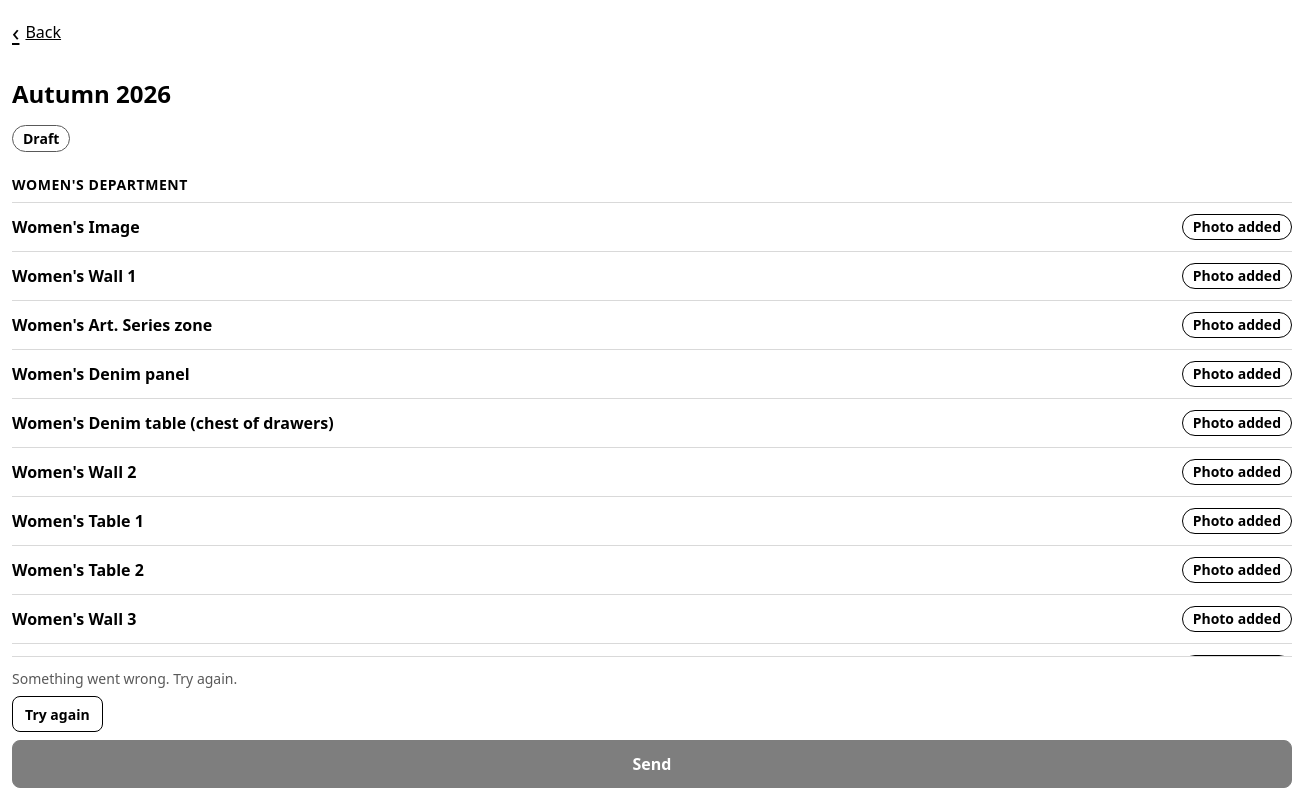
it: DraftReportPage: zone edits still being saved › a save that failed blocks Send, says so, and Try again saves it
Expected: the button "Send" is disabled, [12,740,1292,788]
Expected: the message shows "Something went wrong. Try again.", [12,668,237,687]
Click the button "Try again": (57, 714) [12,696,103,732]
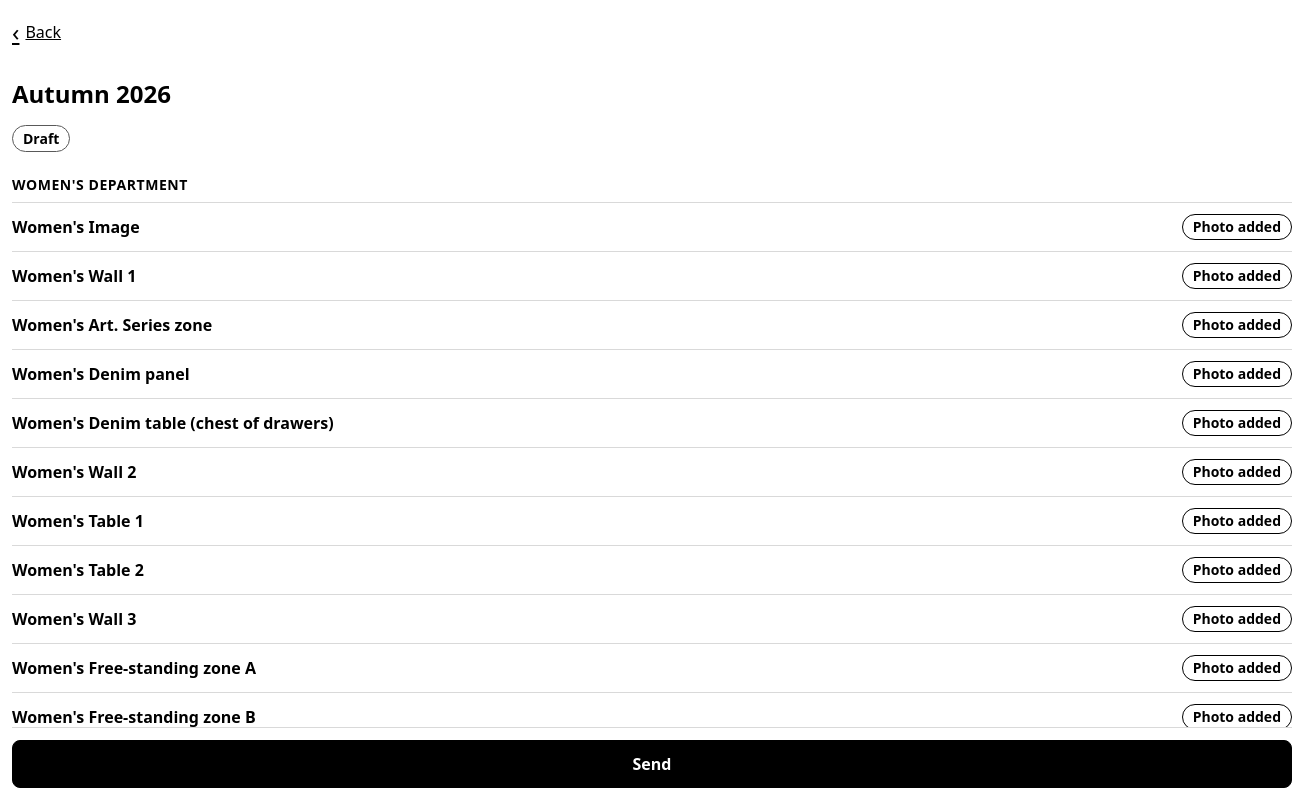
Expected: the button "Send" is enabled, [12,740,1292,788]
Expected: the message "Something went wrong. Try again. Try again" is gone
